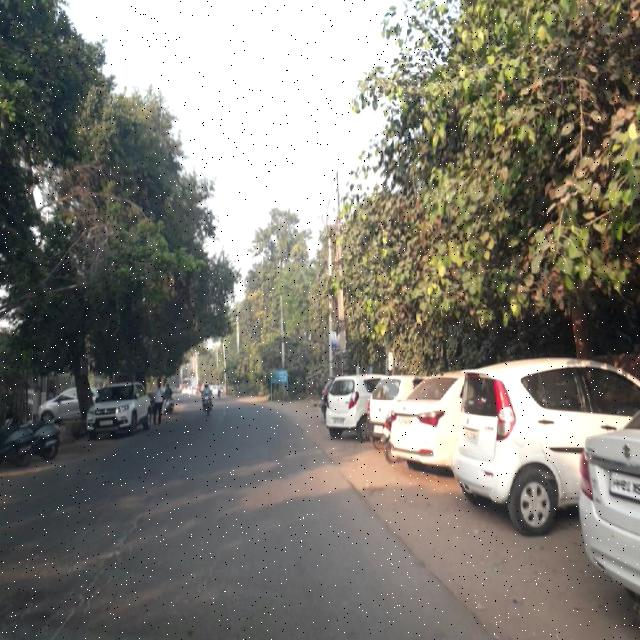D00: (44, 485, 160, 639)
